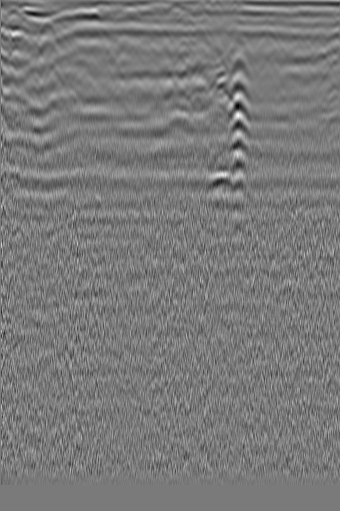가스: (200, 169, 247, 203)
상수: (29, 19, 63, 56)
우수: (151, 57, 185, 90)
